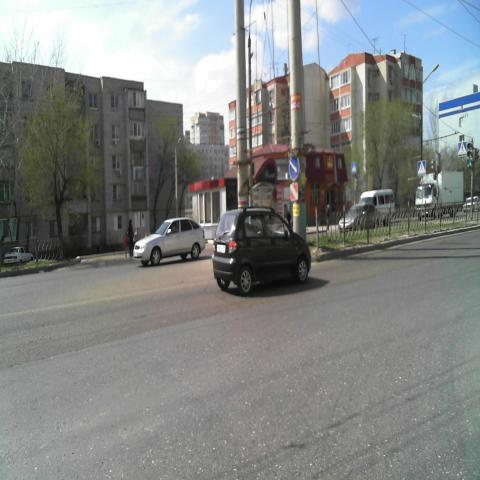4_2_1: (288, 154, 300, 180)
